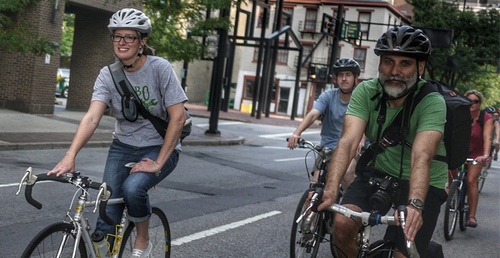bikerider: (12, 7, 202, 258), (331, 14, 452, 258), (282, 46, 361, 254), (439, 79, 500, 247)
